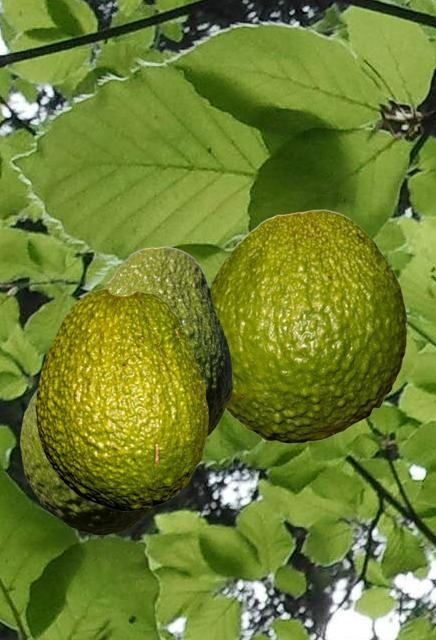avocado: (209, 209, 406, 442), (35, 288, 207, 510), (103, 246, 231, 436), (20, 390, 154, 534)
